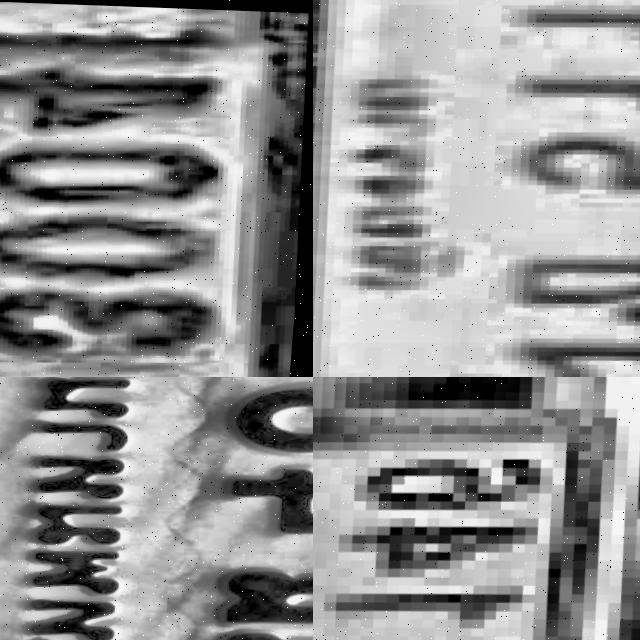license-plate: (313, 0, 640, 377), (0, 6, 309, 377), (0, 377, 313, 640), (313, 385, 626, 640)
